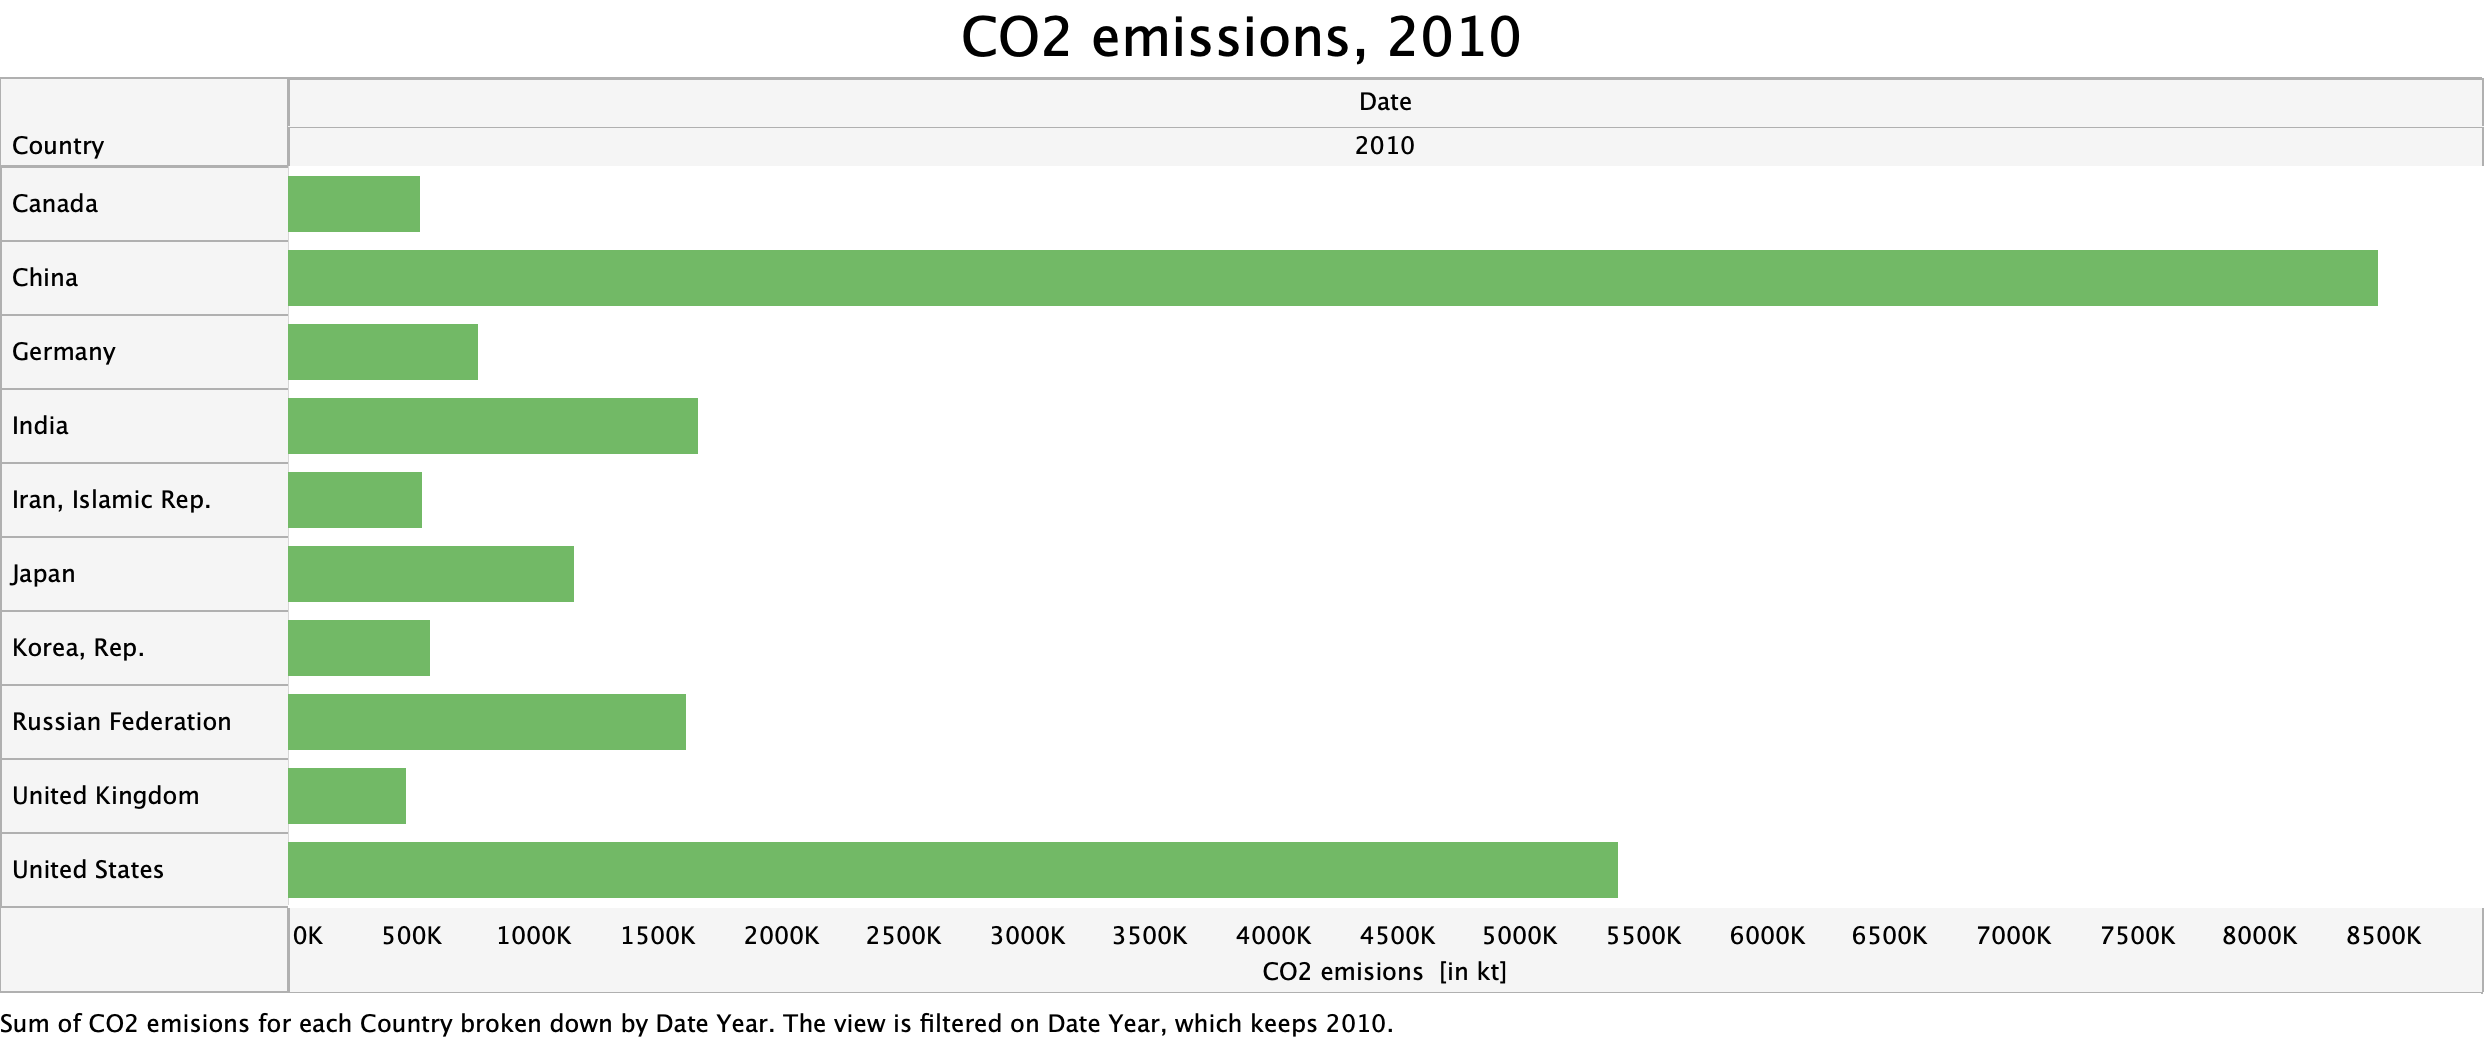

The dashboard page shown, as its layout file describes it:
{"tool":"tableau","page":{"name":"Dashboard 4","canvas":[1000,800],"ordinal":3},"visuals":[{"type":"worksheet","title":"Top 10 CO2 emitting countries in 2010","mark":"Automatic","rows":["country"],"cols":["date","CO2_emisions"],"box":[31,63,948,645]}]}

Visuals, with their boxes on the page's 1000x800 design canvas (x1, y1, x2, y2). These are canvas units, not pixel positions in the 2486x1040 screenshot, which may show the page scaled, cropped or inside an application window:
"Top 10 CO2 emitting countries in 2010" worksheet: bbox=[31, 63, 979, 708]
